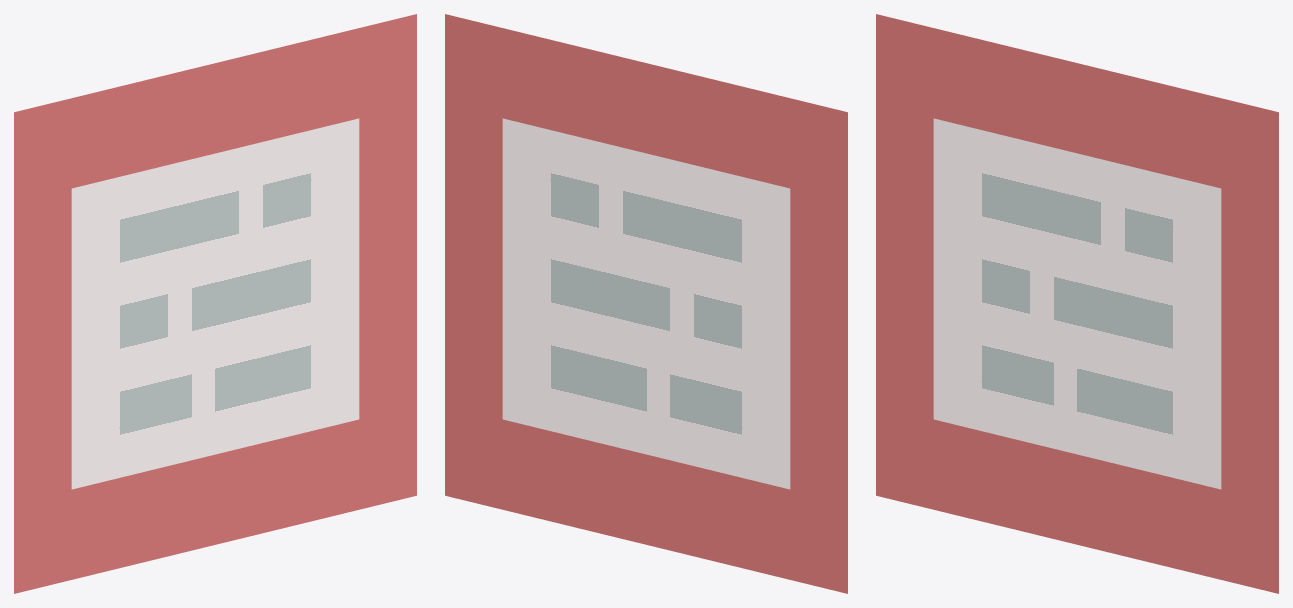
3 views of the same model, side by side, from view 1: azimuth 30°, elevation 25°; view 2: azimuth 150°, elevation 25°; view 3: azimuth 330°, elevation 25° (orthographic).
Parts seen in each view (by area): view 1: poster_fs01; view 2: poster_fs01; view 3: poster_fs01.
Part boxes in pixels (box(x1,y1,x2,y2)): poster_fs01: box(14, 14, 416, 593); poster_fs01: box(445, 14, 847, 593); poster_fs01: box(876, 14, 1278, 593).
Size of the model in its own units: 0.875 by 1 by 0.
1 material, 1 textured.
